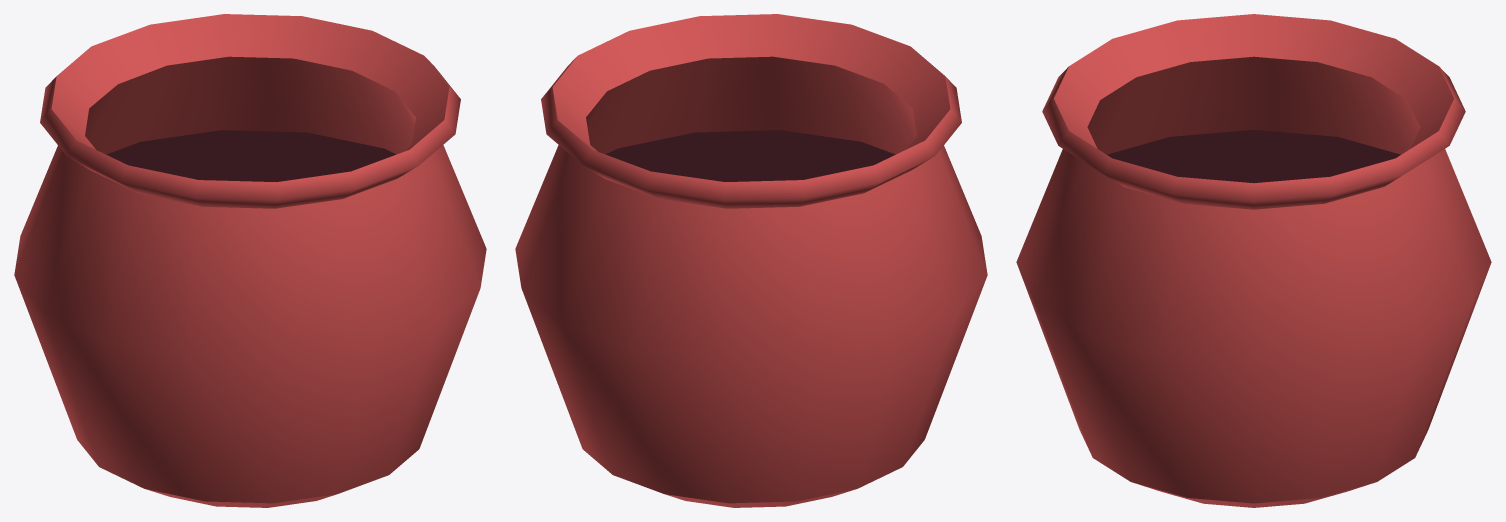
File: Pot.fbx
The picture shows the model from 3 angles, left to right: view 1: azimuth 30°, elevation 25°; view 2: azimuth 150°, elevation 25°; view 3: azimuth 270°, elevation 25°; orthographic projection.
Visible parts, largest first — view 1: Pot; view 2: Pot; view 3: Pot.
Part boxes in pixels (bbox=[...]): Pot: bbox=[14, 14, 486, 507]; Pot: bbox=[515, 14, 987, 507]; Pot: bbox=[1016, 14, 1491, 507].
Size of the model in its own units: 82.93 by 68.09 by 82.93.
